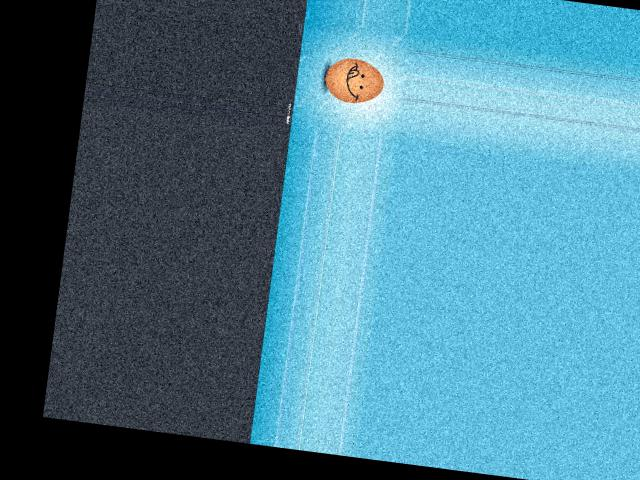egg: (323, 54, 386, 106)
